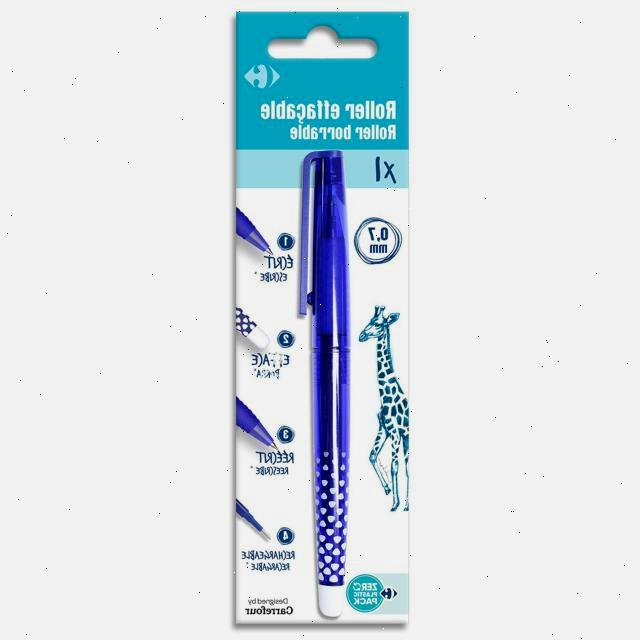pen: (296, 146, 346, 621)
